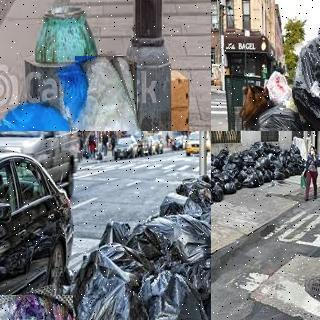Garbage: (65, 53, 146, 131), (71, 248, 152, 320), (136, 262, 211, 320), (142, 212, 211, 271), (0, 97, 105, 131), (288, 29, 320, 131), (154, 186, 204, 222), (249, 105, 306, 131), (175, 174, 211, 211), (239, 171, 260, 187), (228, 151, 243, 166), (257, 155, 271, 169), (223, 180, 236, 193), (211, 187, 216, 205)
